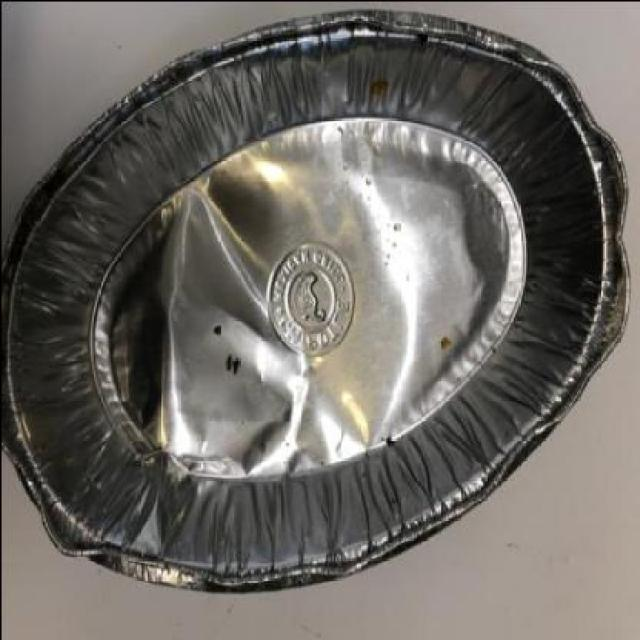METAL: (2, 2, 629, 593)
